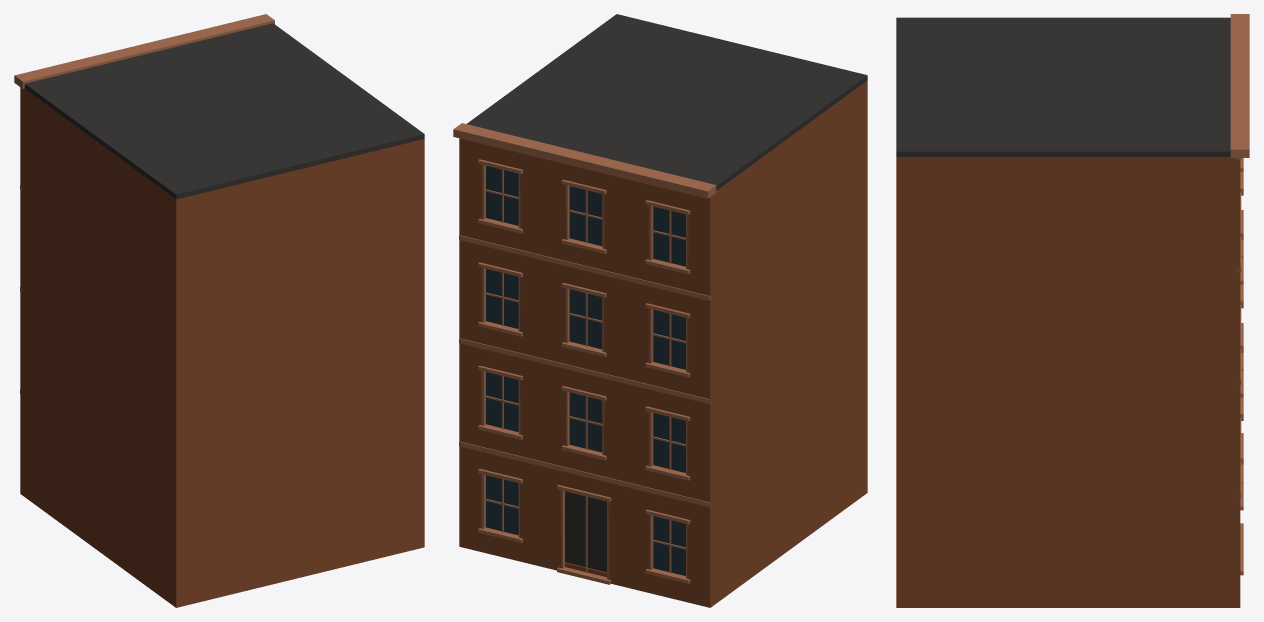
The model's file is residential_3b_4f.obj.
3 views of the same model, side by side, from view 1: azimuth 30°, elevation 25°; view 2: azimuth 150°, elevation 25°; view 3: azimuth 270°, elevation 25° (orthographic). The views are drawn at different scales.
Visible parts, largest first — view 1: rear_1, party_wall_2, roof_slab_139, foundation_0, cornice_138, side_3; view 2: party_wall_2, roof_slab_139, cornice_138, door_18, wall_pier_4, wall_pier_36, wall_pier_70, wall_pier_104, wall_pier_5, wall_pier_81, wall_pier_47, wall_pier_71 (+55 smaller); view 3: side_3, roof_slab_139, rear_1, cornice_138, foundation_0, wall_pier_59, wall_pier_93, wall_pier_127, wall_pier_25.
Part boxes in pixels (bbox=[...]): rear_1: bbox=[172, 139, 424, 607]; party_wall_2: bbox=[22, 89, 183, 605]; roof_slab_139: bbox=[24, 23, 424, 199]; foundation_0: bbox=[22, 489, 424, 607]; cornice_138: bbox=[14, 14, 274, 88]; side_3: bbox=[417, 140, 424, 548]; party_wall_2: bbox=[712, 83, 867, 605]; roof_slab_139: bbox=[467, 14, 867, 190]; cornice_138: bbox=[453, 123, 716, 198]; door_18: bbox=[565, 491, 606, 572]; wall_pier_4: bbox=[687, 502, 714, 607]; wall_pier_36: bbox=[687, 399, 714, 504]; wall_pier_70: bbox=[687, 296, 714, 401]; wall_pier_104: bbox=[687, 194, 714, 298]; wall_pier_5: bbox=[626, 487, 649, 592]; wall_pier_81: bbox=[603, 275, 626, 378]; wall_pier_47: bbox=[603, 378, 626, 481]; wall_pier_71: bbox=[626, 281, 649, 384]; side_3: bbox=[896, 157, 1235, 607]; roof_slab_139: bbox=[896, 17, 1230, 156]; rear_1: bbox=[896, 157, 905, 607]; cornice_138: bbox=[1230, 14, 1249, 157]; foundation_0: bbox=[896, 599, 1235, 607]; wall_pier_59: bbox=[1231, 382, 1240, 495]; wall_pier_93: bbox=[1231, 269, 1240, 382]; wall_pier_127: bbox=[1231, 158, 1240, 269]; wall_pier_25: bbox=[1231, 495, 1240, 607].
Size of the model in its own units: 8.52 by 13.44 by 9.37.
